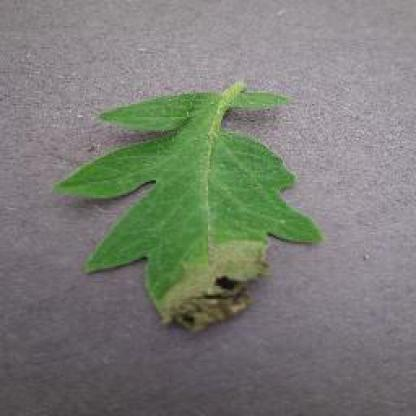bad leaf: (76, 75, 311, 348)
